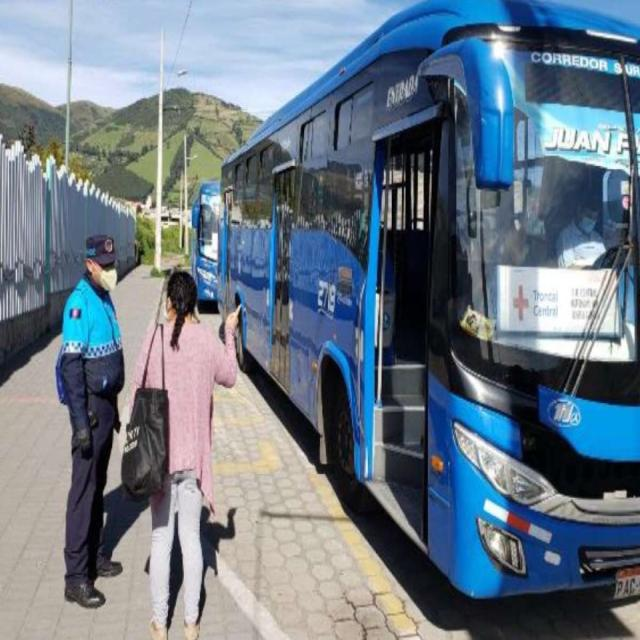BUS: (224, 2, 640, 602)
